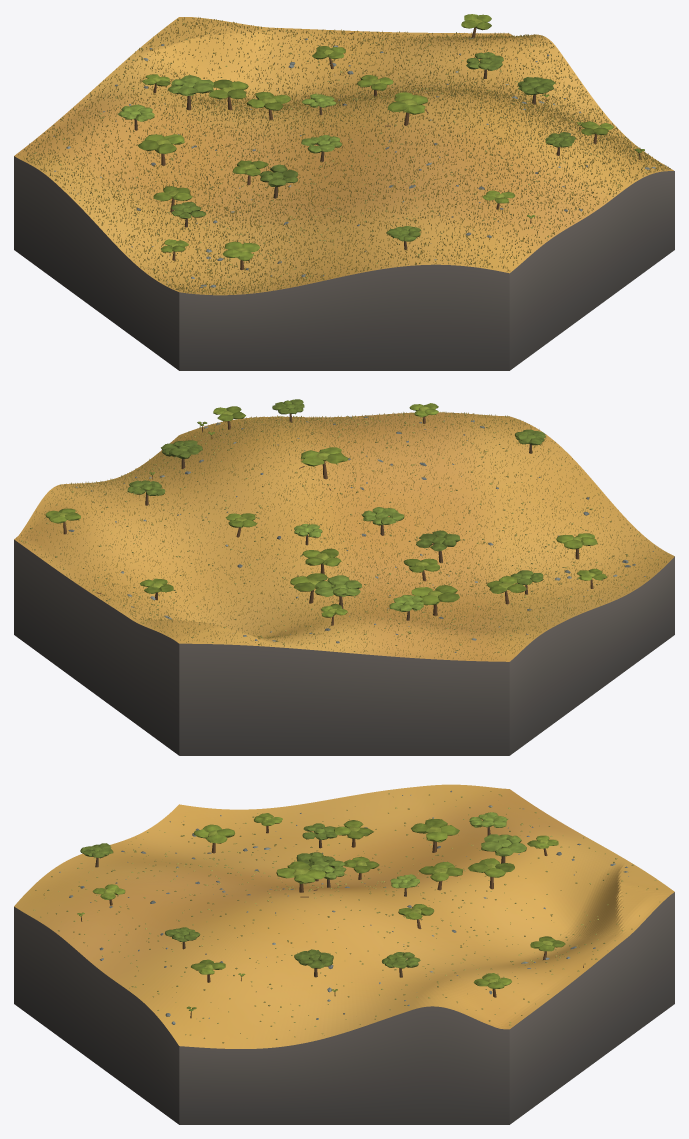
3 views of the same model, one above another, from view 1: azimuth 30°, elevation 25°; view 2: azimuth 150°, elevation 25°; view 3: azimuth 270°, elevation 25° (orthographic).
Visible parts, largest first — view 1: terrain, hex_side_cut, wildflowers, broadleaf_canopy, shrubs, trunks, boulders; view 2: terrain, hex_side_cut, wildflowers, broadleaf_canopy, shrubs, trunks, boulders; view 3: terrain, hex_side_cut, broadleaf_canopy, shrubs, trunks, boulders.
Part boxes in pixels (left/top/right/bottom): terrain: left=14, top=17, right=673, bottom=295; hex_side_cut: left=14, top=156, right=674, bottom=370; wildflowers: left=18, top=17, right=670, bottom=294; broadleaf_canopy: left=118, top=14, right=644, bottom=261; shrubs: left=32, top=18, right=658, bottom=293; trunks: left=134, top=27, right=640, bottom=270; boulders: left=53, top=37, right=655, bottom=293; terrain: left=14, top=412, right=674, bottom=661; hex_side_cut: left=14, top=539, right=674, bottom=755; wildflowers: left=16, top=412, right=670, bottom=660; broadleaf_canopy: left=45, top=399, right=607, bottom=617; shrubs: left=21, top=413, right=657, bottom=655; trunks: left=63, top=413, right=593, bottom=625; boulders: left=68, top=416, right=653, bottom=652; terrain: left=14, top=784, right=674, bottom=1048; hex_side_cut: left=14, top=892, right=674, bottom=1124; broadleaf_canopy: left=77, top=812, right=565, bottom=1011; shrubs: left=30, top=791, right=660, bottom=1043; trunks: left=81, top=826, right=547, bottom=1018; boulders: left=59, top=790, right=628, bottom=1024.
Bounding box in the file's own units: 4330 × 1289 × 5000.
